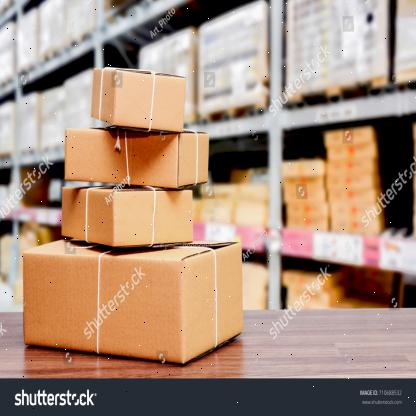box: (23, 251, 184, 365), (65, 126, 178, 189), (115, 67, 186, 133), (114, 190, 192, 247)
